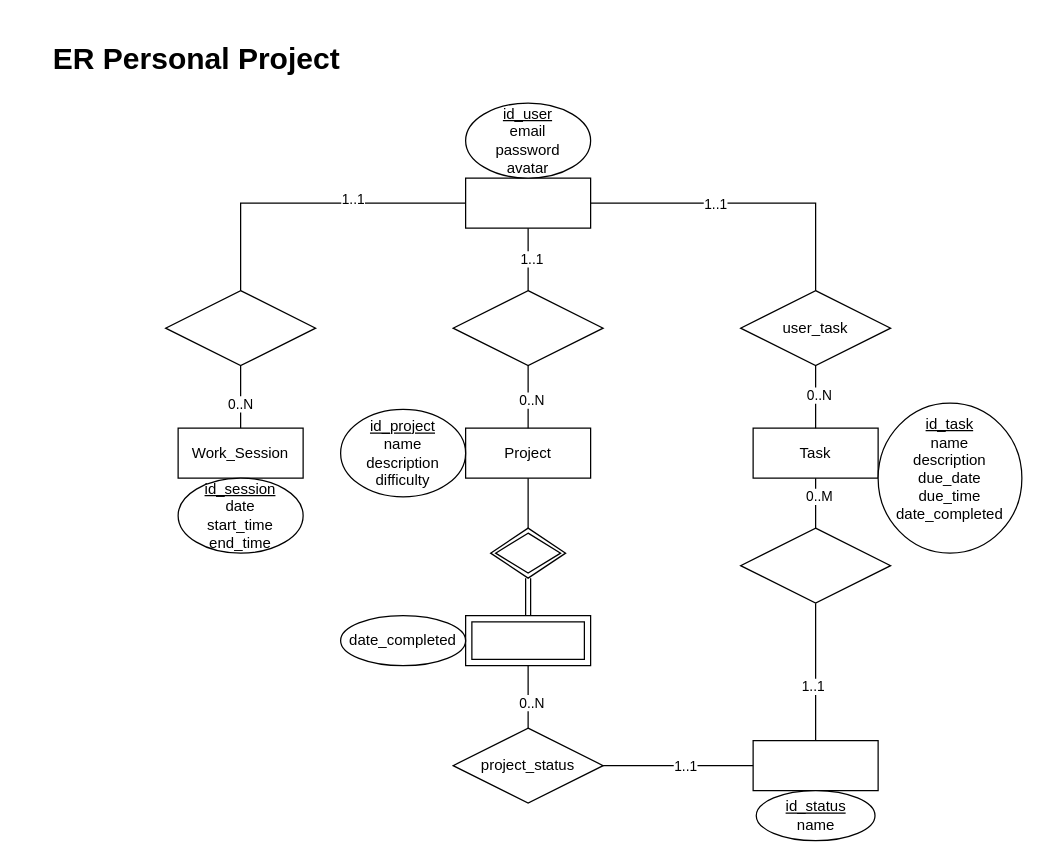
The diagram is 1044 pixels wide and 863 high, and some of its shapes have lost their labels. The shapes that lost their labels are listed below. From the top down, each one's centre as x and y in pixels, then its label:
point 527,202: User
point 240,327: user_session
point 527,327: user_project
point 815,565: task_status
point 527,640: Project_task
point 815,765: Status
